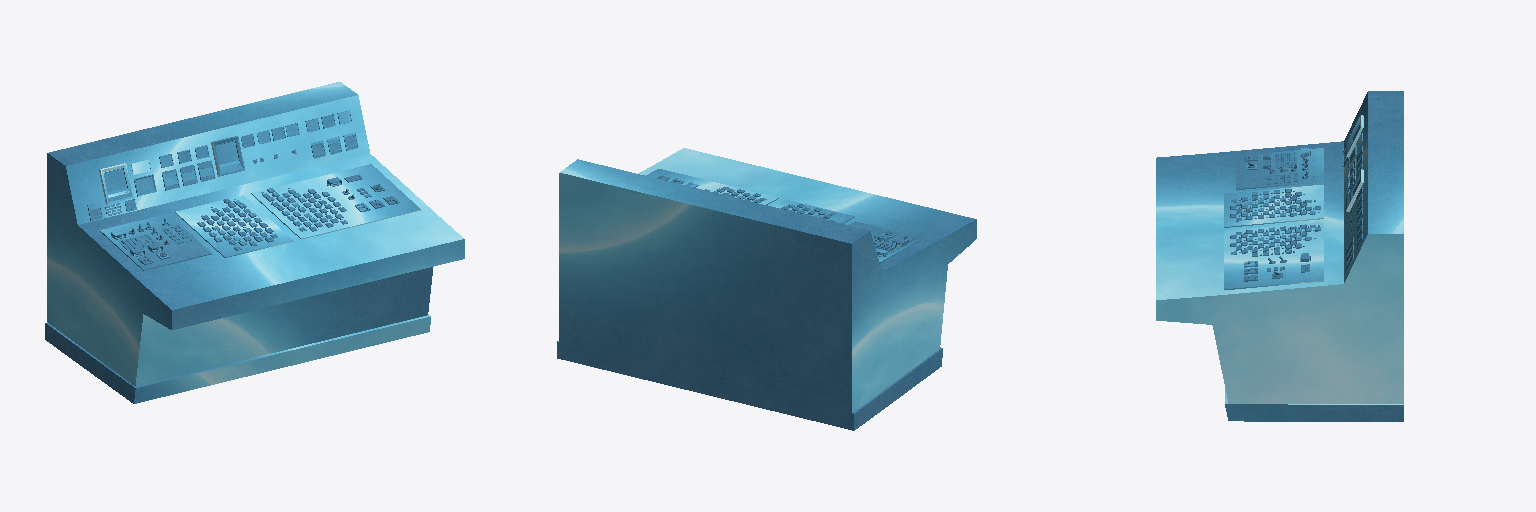
3 views of the same model, side by side, from view 1: azimuth 30°, elevation 25°; view 2: azimuth 150°, elevation 25°; view 3: azimuth 270°, elevation 25° (orthographic).
Parts seen in each view (by area): view 1: cube; view 2: cube; view 3: cube.
Boxes of the visible parts, x1,y1,x2,y2 form: cube: [45, 82, 464, 403]; cube: [557, 148, 976, 430]; cube: [1156, 91, 1403, 421].
Bounding box in the file's own units: 1.91 × 1.14 × 1.38.
Materials: 1 (1 with a texture image).